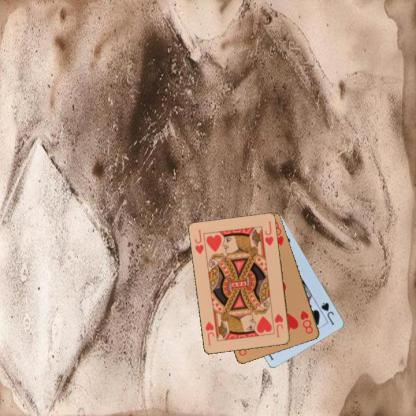8h: (298, 308, 314, 335)
Jh: (193, 227, 205, 255), (272, 312, 284, 338)
Js: (318, 300, 336, 326)
